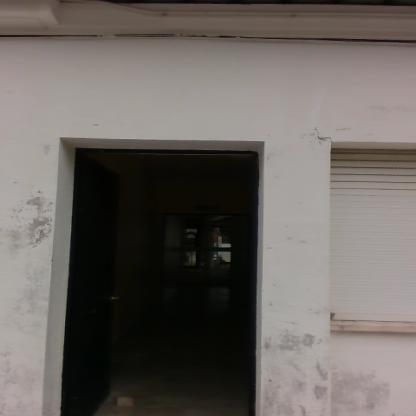open: (35, 118, 287, 414)
